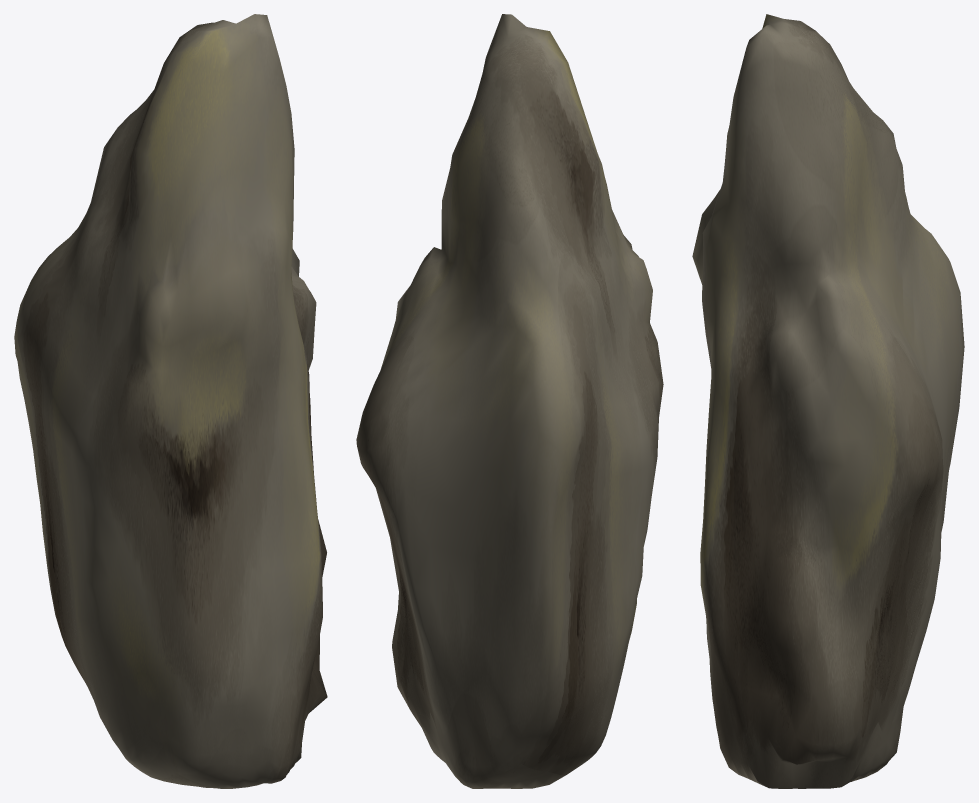
The model's file is rock5.fbx.
The picture shows the model from 3 angles, left to right: view 1: azimuth 30°, elevation 25°; view 2: azimuth 150°, elevation 25°; view 3: azimuth 270°, elevation 25°; orthographic projection. The views are drawn at different scales.
Visible parts, largest first — view 1: pCube2; view 2: pCube2; view 3: pCube2.
Part boxes in pixels (x1,y1,x2,y2): pCube2: [14, 14, 327, 788]; pCube2: [356, 14, 663, 788]; pCube2: [692, 14, 964, 788].
Bounding box in the file's own units: 33.25 × 99.24 × 32.52.
Materials: 1 (1 with a texture image).
